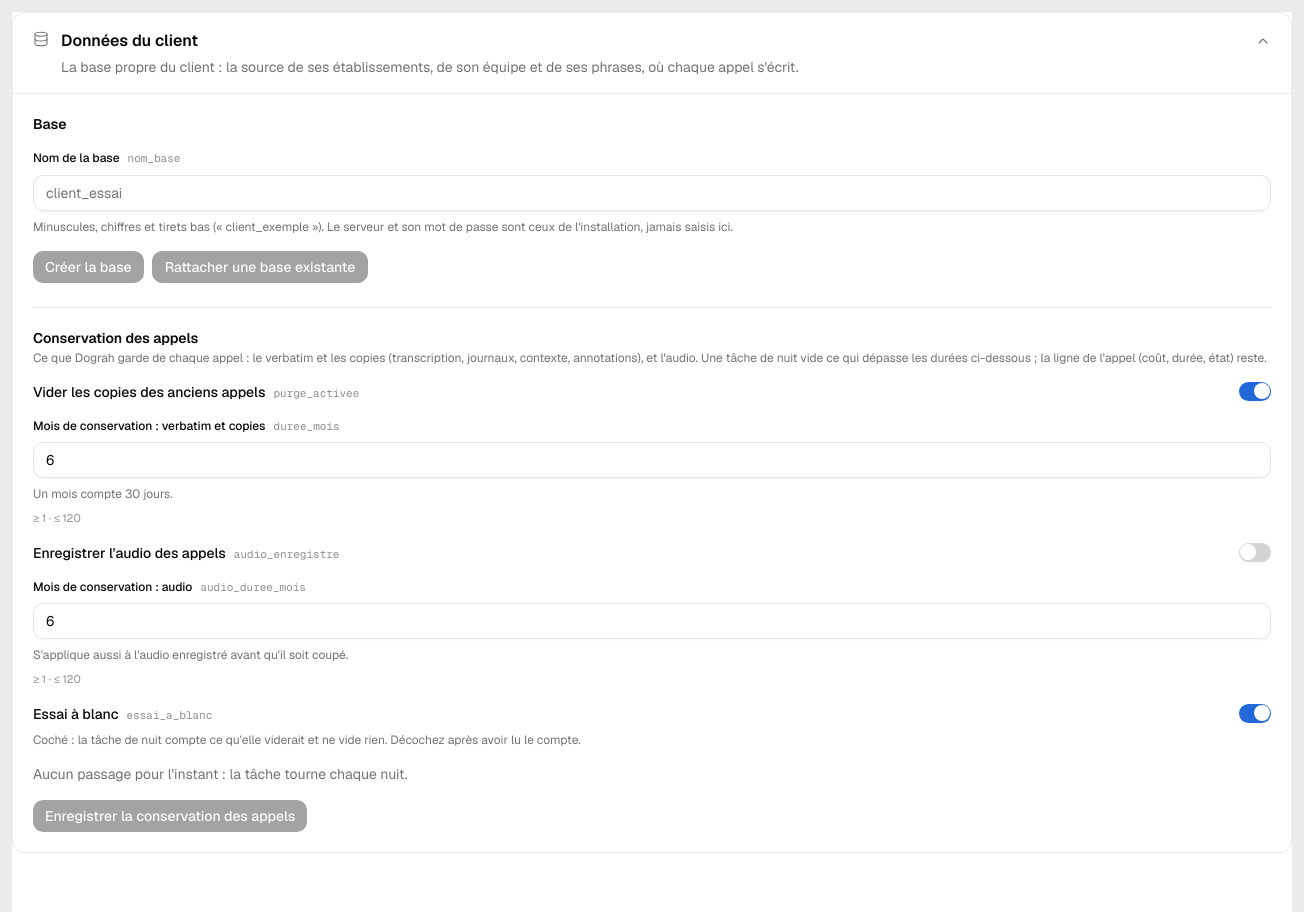
Test case: Call retention (« Client data ») › saves exactly what is on screen, and the button stays shut until something changes or when a duration is out of bounds
This screenshot has width=1304, height=912.
expect the button with test id "enregistrer-conservation-appels" is disabled: met, box [33,800,307,832]
Replace the text in the number field with id "conservation-appels-duree" with "0" at (652, 460), box [33,442,1271,478]
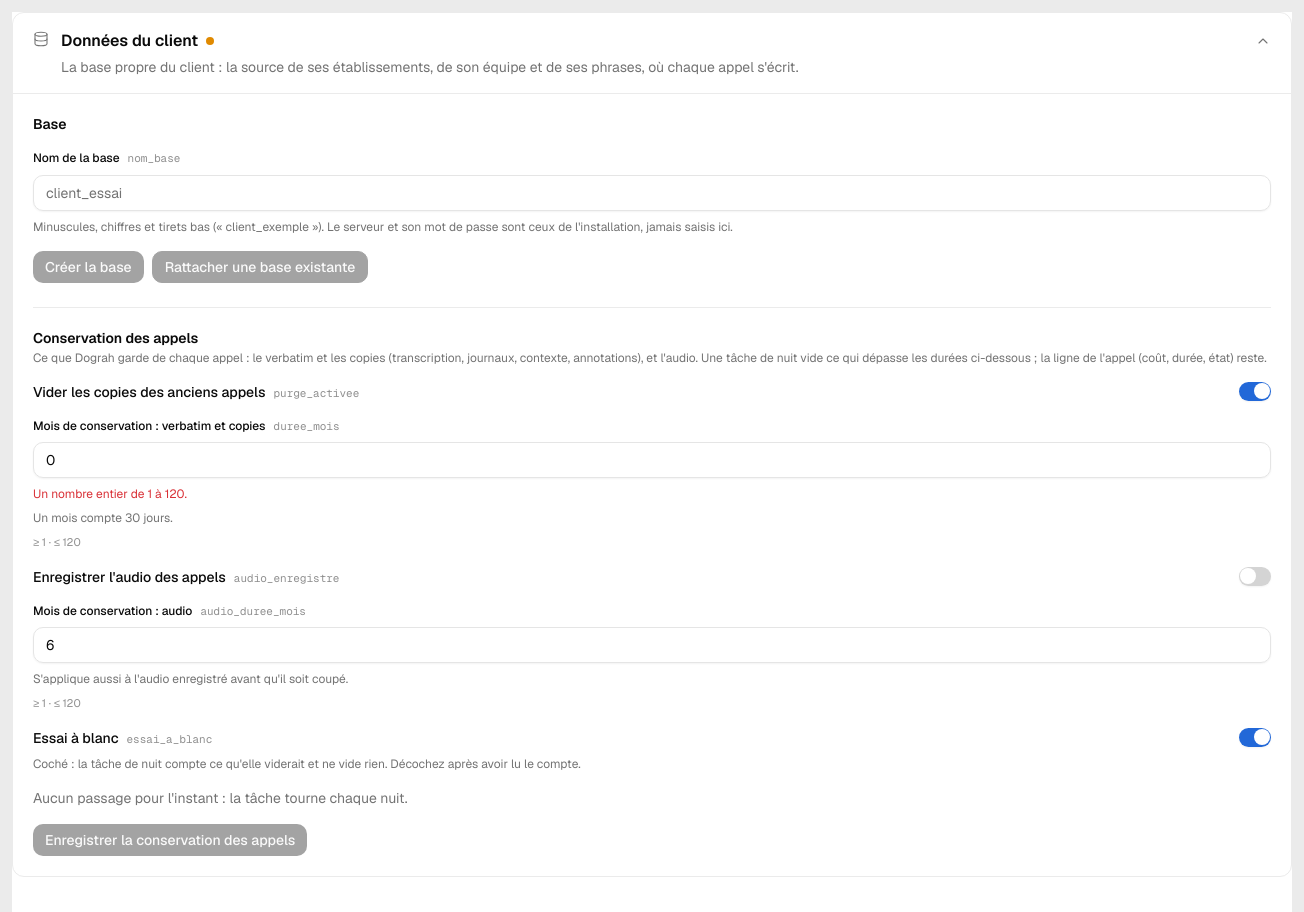
expect the button with test id "enregistrer-conservation-appels" is disabled: met, box [33,824,307,856]
Replace the text in the number field with id "conservation-appels-duree" with "121" at (652, 460), box [33,442,1271,478]
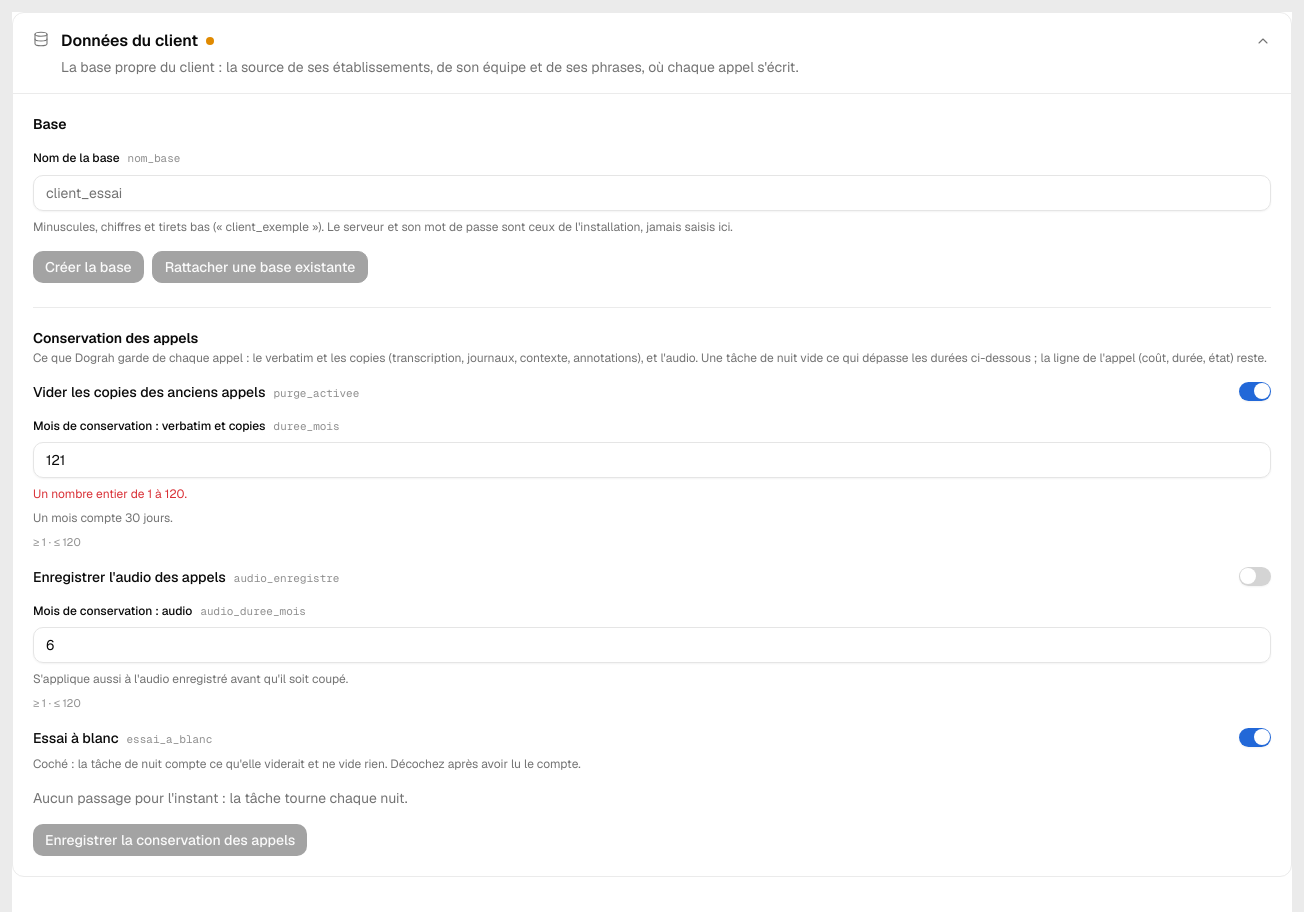
expect the button with test id "enregistrer-conservation-appels" is disabled: met, box [33,824,307,856]
Replace the text in the number field with id "conservation-appels-duree" with "9" at (652, 460), box [33,442,1271,478]
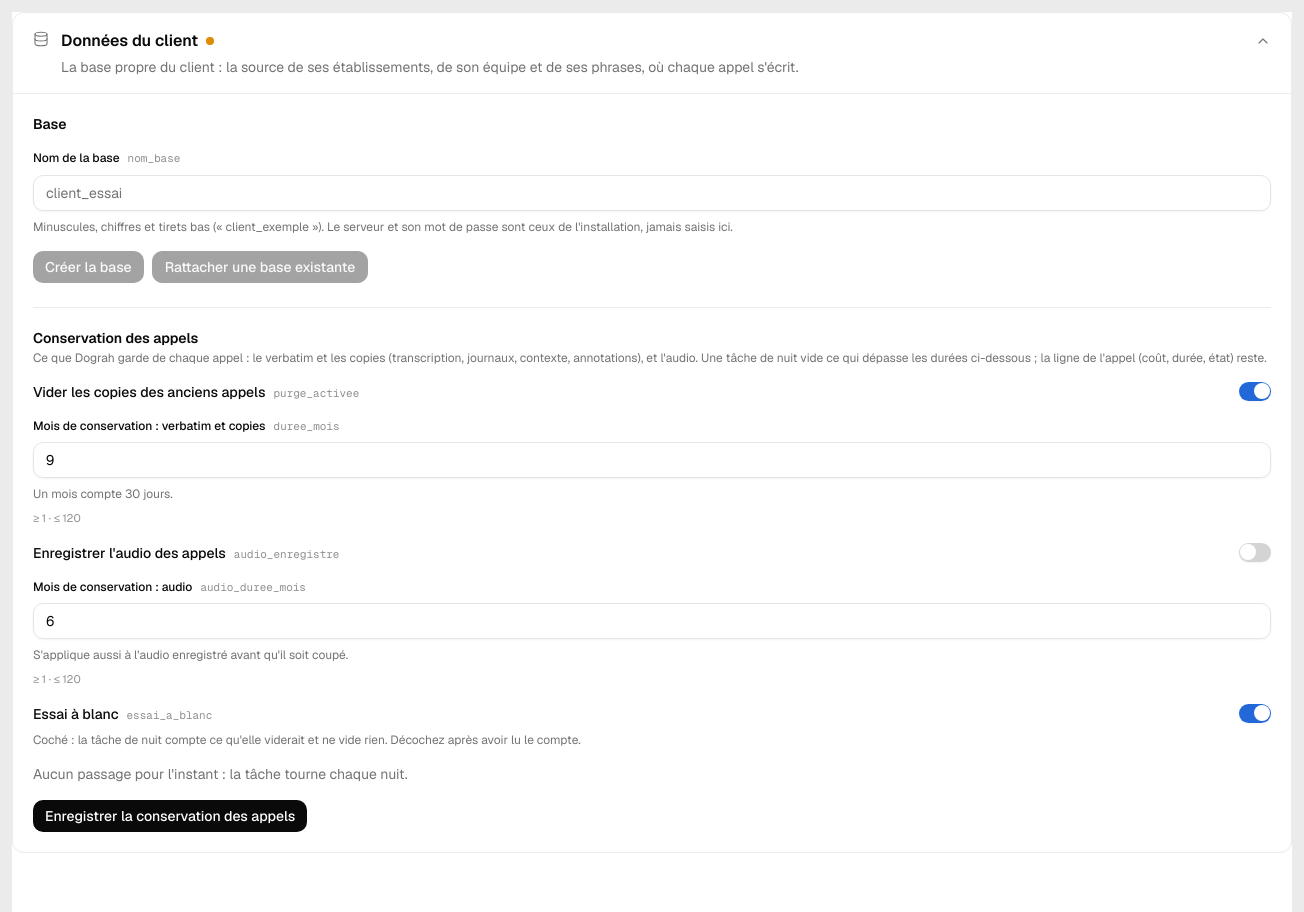
Click the switch with id "conservation-appels-blanc" at (1255, 714), box [1239,704,1271,723]
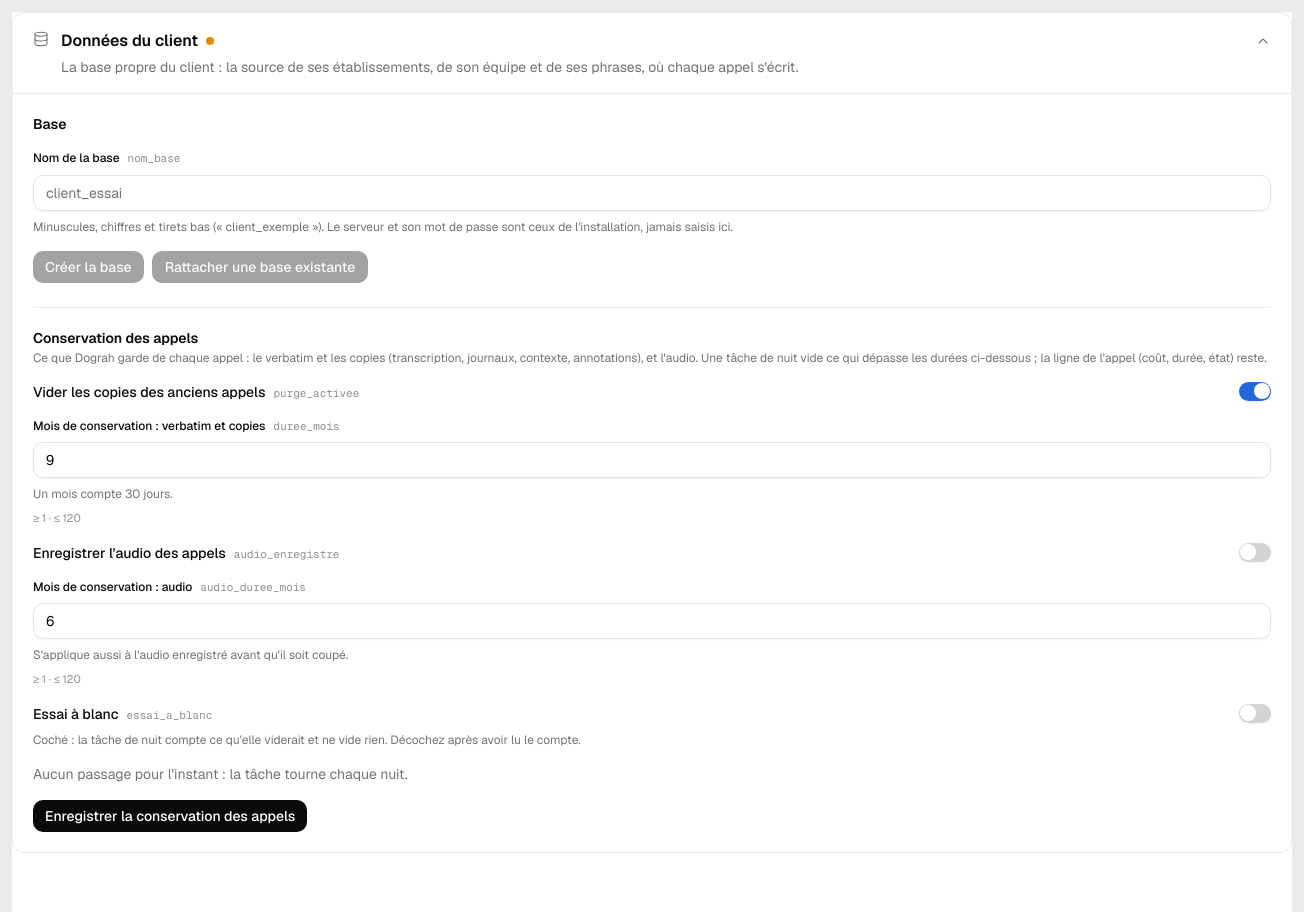
expect the button with test id "enregistrer-conservation-appels" is enabled: met
Click the button with test id "enregistrer-conservation-appels" at (170, 816), box [33,800,307,832]
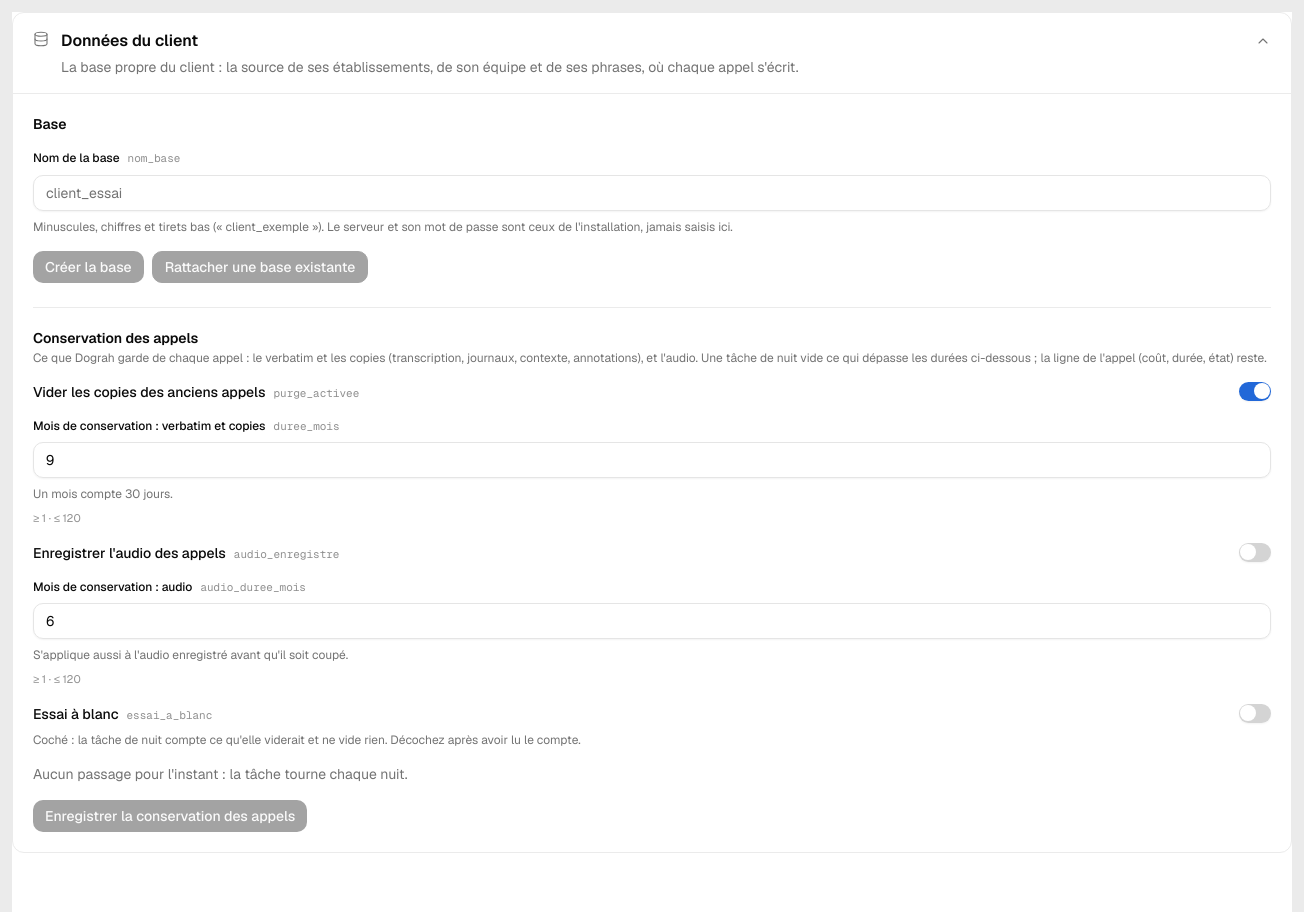
expect the button with test id "enregistrer-conservation-appels" is disabled: met, box [33,800,307,832]
